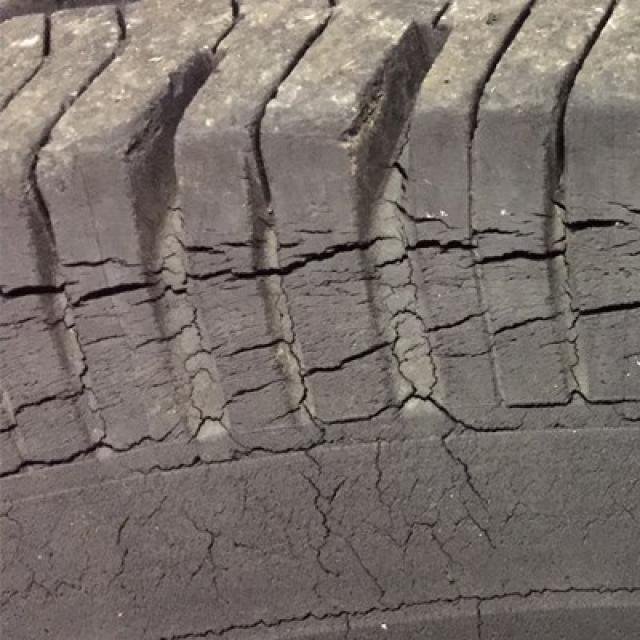Cracks: (0, 37, 638, 638)
